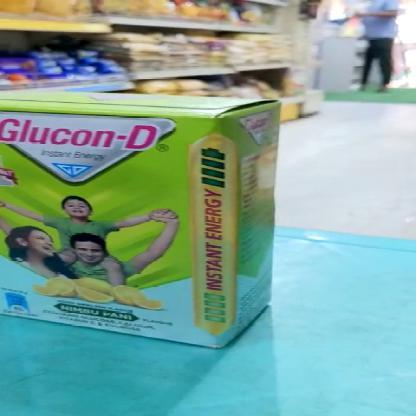Glucon D Nimbu Pani 1-KG: (1, 108, 222, 340)
